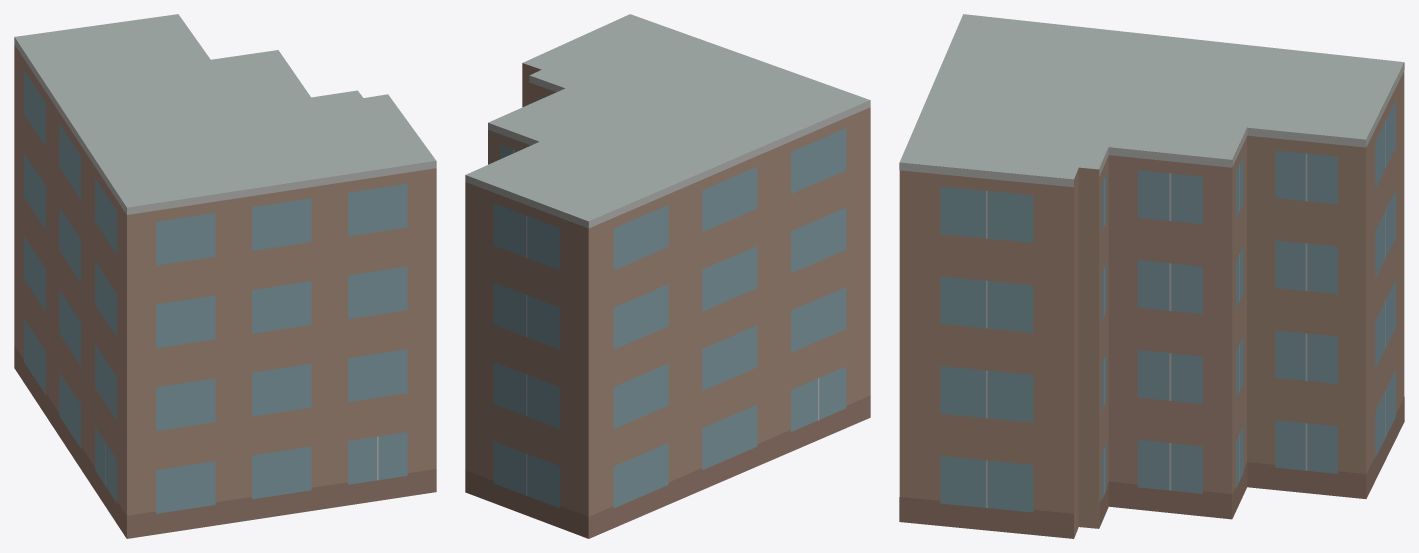
Rendered from survey-upis-32733851.glb.
3 renders of one model, left to right at view 1: azimuth 30°, elevation 25°; view 2: azimuth 150°, elevation 25°; view 3: azimuth 270°, elevation 25°, orthographic. The views are drawn at different scales.
Parts seen in each view (by area): view 1: survey-upis-32733851.tmp; view 2: survey-upis-32733851.tmp; view 3: survey-upis-32733851.tmp.
Boxes of the visible parts, box(x1,y1,x2,y2) form: survey-upis-32733851.tmp: box(14, 14, 436, 538); survey-upis-32733851.tmp: box(465, 14, 870, 538); survey-upis-32733851.tmp: box(899, 14, 1404, 538).
Size of the model in its own units: 10.97 by 11.1 by 14.14.
